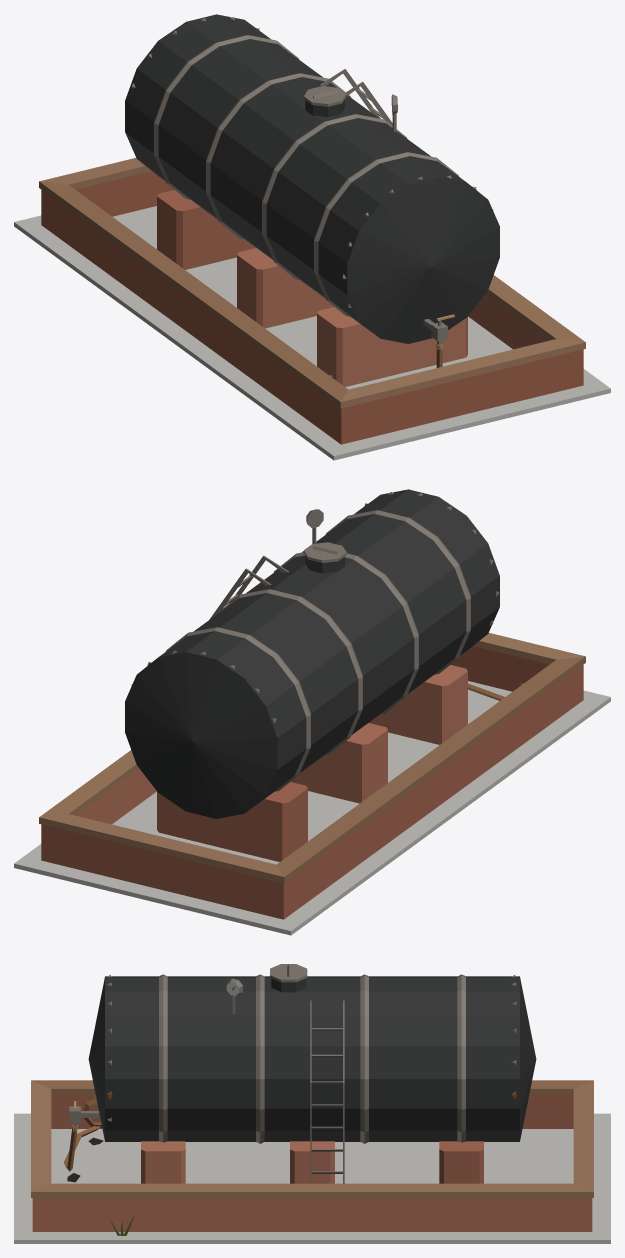
The model's file is depot-fuel-tank-55a00e.glb.
3 renders of one model, top to bottom at view 1: azimuth 30°, elevation 25°; view 2: azimuth 150°, elevation 25°; view 3: azimuth 270°, elevation 25°, orthographic. The views are drawn at different scales.
Parts seen in each view (by area): view 1: tank-and-bund, hatch-lid; view 2: tank-and-bund, hatch-lid; view 3: tank-and-bund, hose, hatch-lid.
Boxes of the visible parts, x1,y1,x2,y2 form: tank-and-bund: [14, 14, 610, 460]; hatch-lid: [304, 86, 346, 106]; tank-and-bund: [14, 489, 610, 935]; hatch-lid: [304, 542, 346, 562]; tank-and-bund: [14, 974, 610, 1243]; hose: [64, 1098, 101, 1171]; hatch-lid: [270, 964, 307, 982].
Bounding box in the file's own units: 4 × 3.24 × 8.
